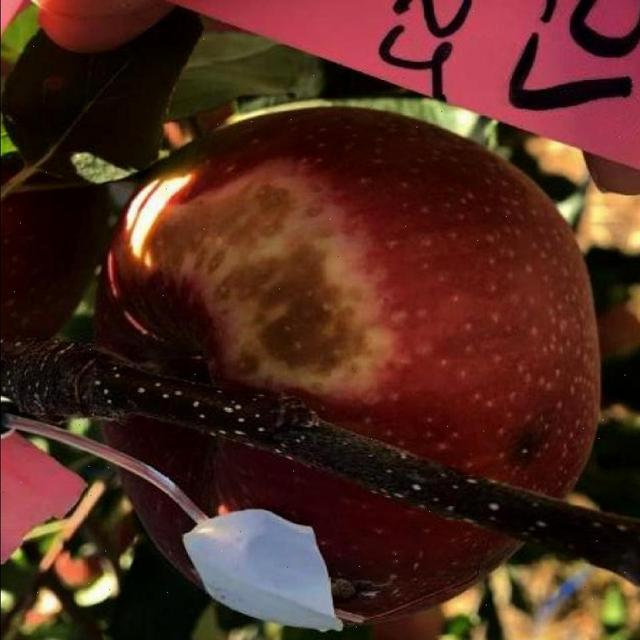Sunscald Fruit: (91, 111, 272, 267)
